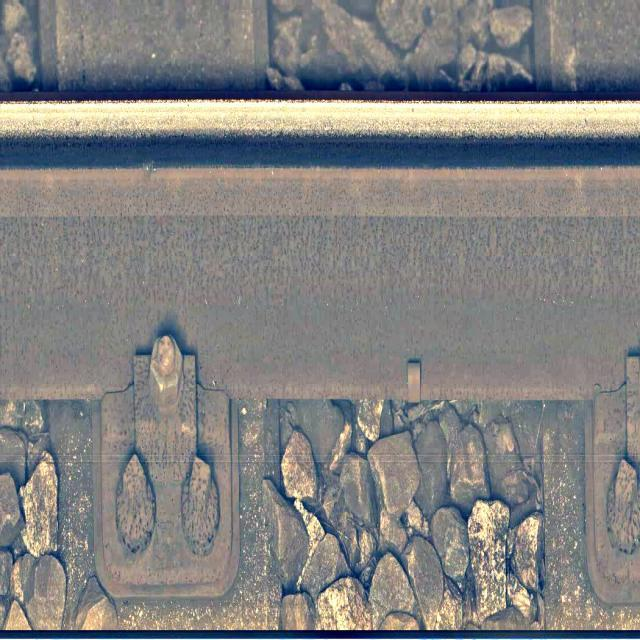Good Fasteners: (96, 335, 238, 599), (586, 357, 639, 604)
